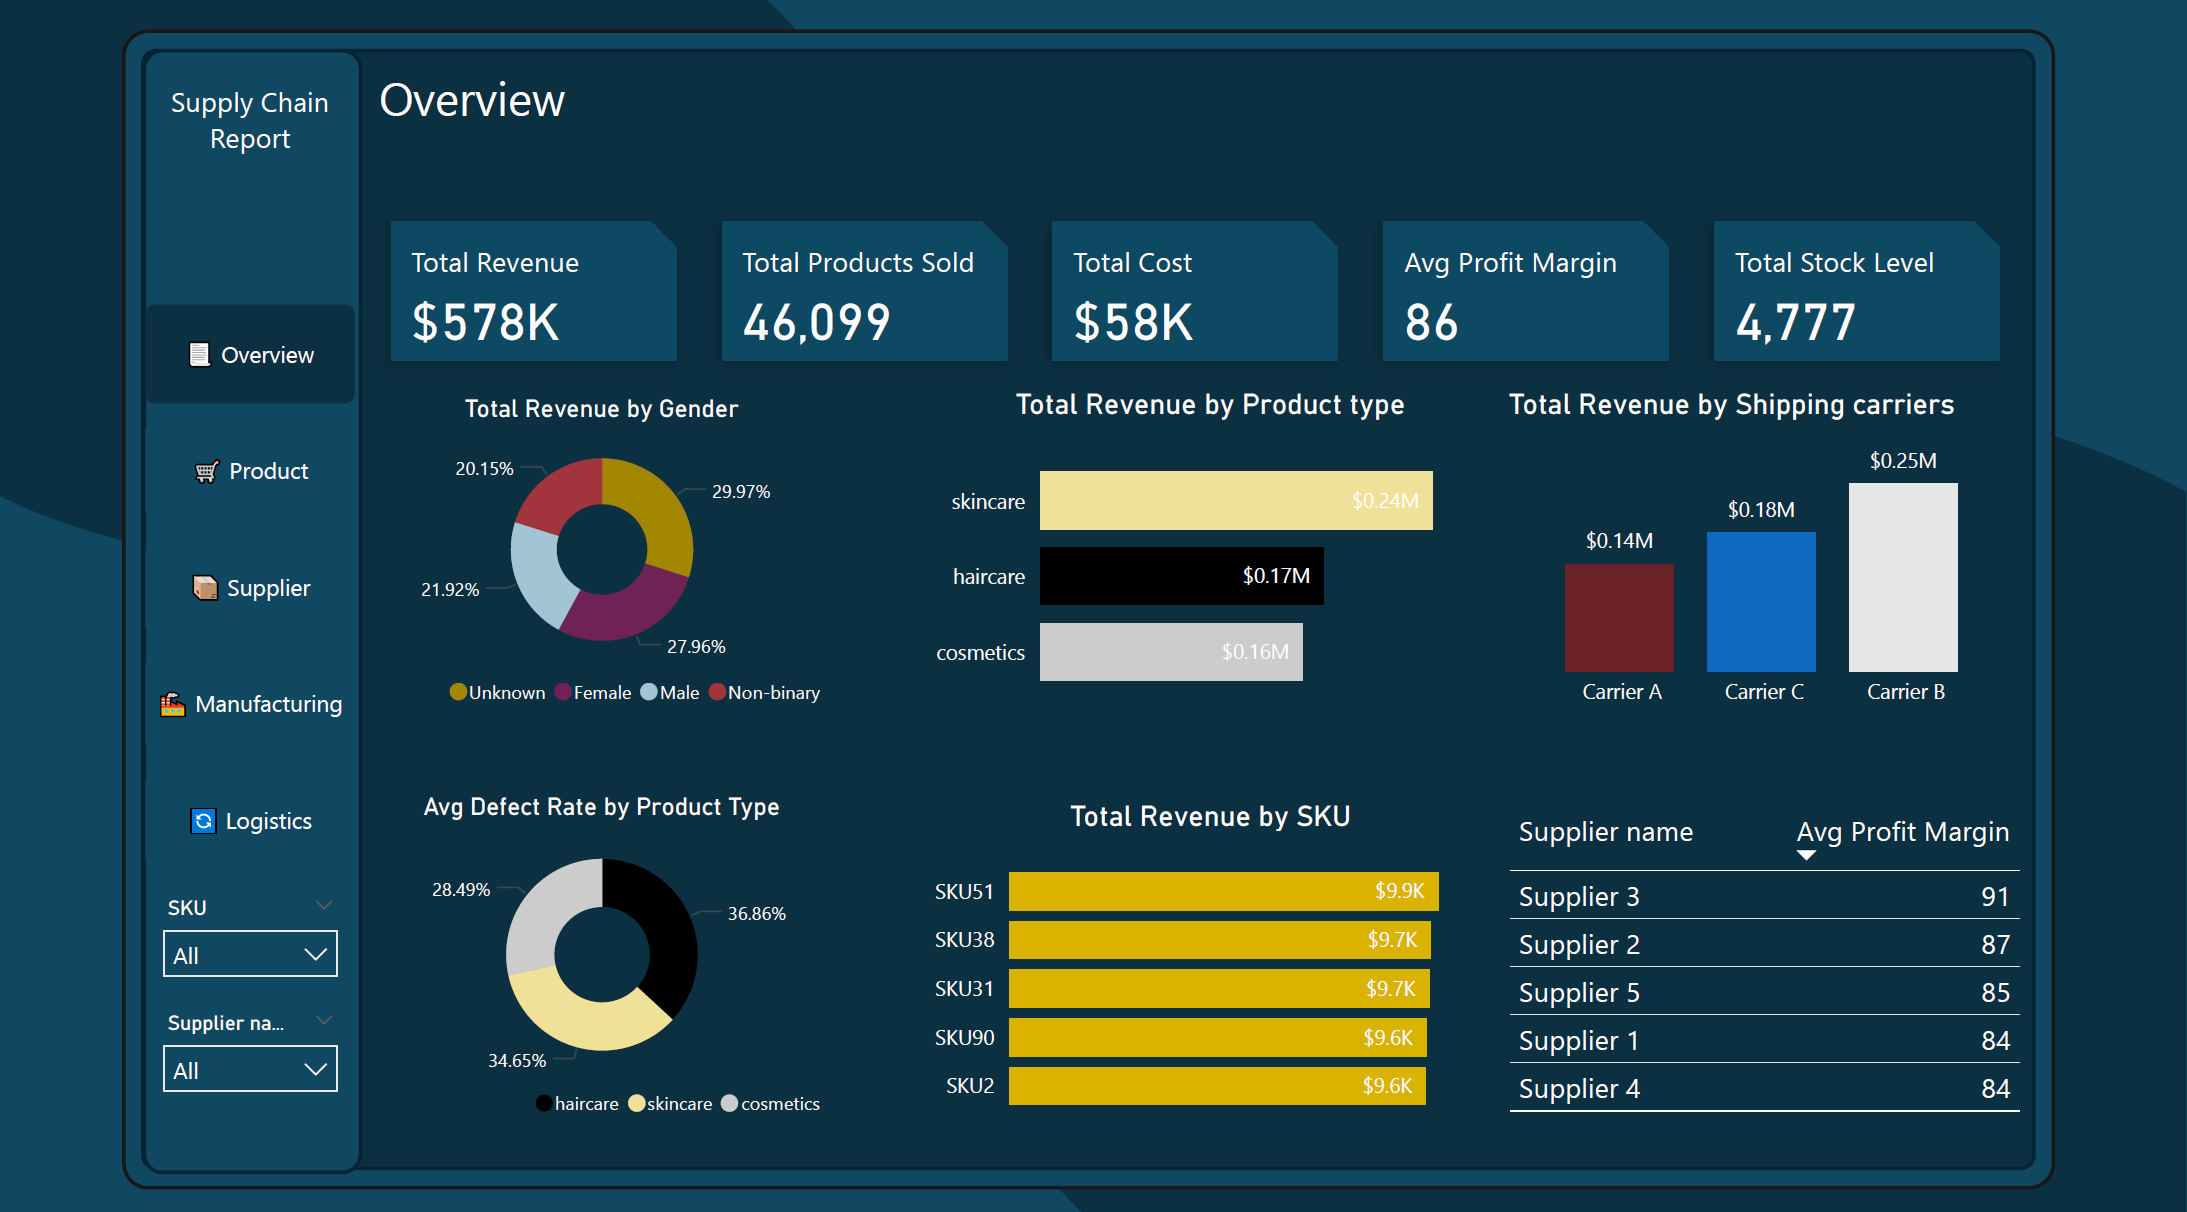

What the dashboard file says about the page in this screenshot:
{"tool":"powerbi","page":{"name":"📃  Overview","canvas":[1280,720],"ordinal":0},"visuals":[{"type":"cardVisual","fields":{"Data":["Measures (2).Total Revenue","Measures (2).Total Products Sold","Measures (2).Total Cost","Measures (2).Avg Profit Margin","Measures (2).Total Stock Level"]},"box":[218.8,120.4,970.1,109.4],"z":0},{"type":"pageNavigator","box":[90.3,181.2,122,330.7],"z":0,"group":"g1"},{"type":"textbox","box":[90.3,47.6,122,62.8],"z":1000,"group":"g1"},{"type":"donutChart","title":"Total Revenue by Gender","fields":{"Y":["Measures (2).Total Revenue"],"Category":["supply_chain_data.Customer demographics"]},"box":[218.8,235.3,274.5,190.7],"z":1000},{"type":"donutChart","title":"Avg Defect Rate by Product Type","fields":{"Y":["Measures (2).Avg Defect Rate"],"Category":["supply_chain_data.Product type"]},"box":[218.8,467,274.5,199.3],"z":2000},{"type":"slicer","fields":{"Values":["supply_chain_data.SKU"]},"box":[90.3,521.7,122,60.4],"z":2000,"group":"g1"},{"type":"clusteredBarChart","fields":{"Y":["Measures (2).Total Revenue"],"Category":["supply_chain_data.Product type"]},"box":[541.6,229.8,338.6,196.2],"z":3000},{"type":"slicer","fields":{"Values":["supply_chain_data.Supplier name"]},"box":[90.3,588.2,122,60.4],"z":3000,"group":"g1"},{"type":"clusteredBarChart","fields":{"Y":["Measures (2).Total Revenue"],"Category":["supply_chain_data.SKU"]},"box":[541.6,470.1,338.6,196.2],"z":4000},{"type":"columnChart","fields":{"Y":["Measures (2).Total Revenue"],"Category":["supply_chain_data.Shipping carriers"]},"box":[880.2,229.8,308.1,196.2],"z":5000},{"type":"tableEx","fields":{"Values":["supply_chain_data.Supplier name","Measures (2).Avg Profit Margin"]},"box":[880.2,470.1,308.1,196.2],"z":6000},{"type":"textbox","box":[220.9,38.4,967.1,62.8],"z":7000},{"type":"group","id":"g1","title":"Group 1","box":[90.3,47.6,122,601],"z":8000}]}

Visuals, with their boxes in screenshot pixels (x1, y1, x2, y2), scaled from the page's 1280x720 canvas onto the 2187x1212 screenshot:
cardVisual - Measures (2).Total Revenue x Measures (2).Total Products Sold: (374, 203, 2031, 387)
pageNavigator: (154, 305, 363, 862)
textbox: (154, 80, 363, 186)
"Total Revenue by Gender" donutChart: (374, 396, 843, 717)
"Avg Defect Rate by Product Type" donutChart: (374, 786, 843, 1122)
slicer - supply_chain_data.SKU: (154, 878, 363, 980)
clusteredBarChart - Measures (2).Total Revenue x supply_chain_data.Product type: (925, 387, 1504, 717)
slicer - supply_chain_data.Supplier name: (154, 990, 363, 1092)
clusteredBarChart - Measures (2).Total Revenue x supply_chain_data.SKU: (925, 791, 1504, 1122)
columnChart - Measures (2).Total Revenue x supply_chain_data.Shipping carriers: (1504, 387, 2030, 717)
tableEx - supply_chain_data.Supplier name x Measures (2).Avg Profit Margin: (1504, 791, 2030, 1122)
textbox: (377, 65, 2030, 170)
"Group 1" group: (154, 80, 363, 1092)
